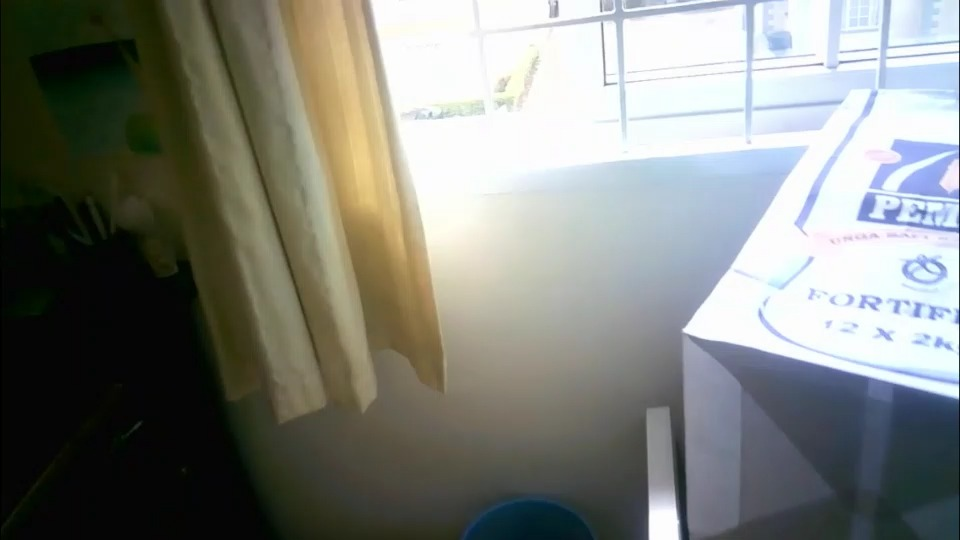wheat_flour_blue_label: (668, 83, 960, 536)
